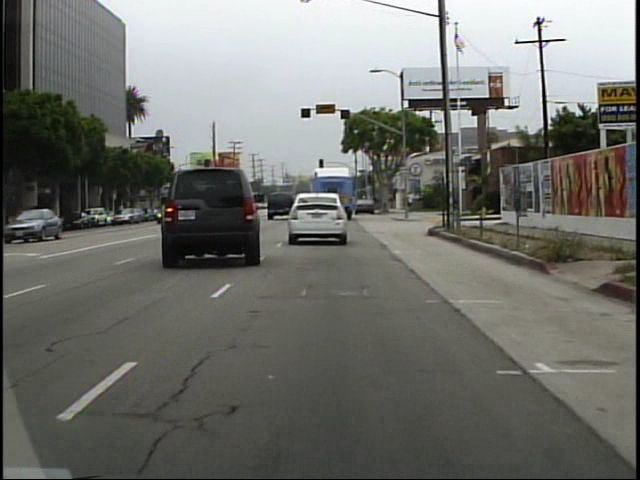person: (399, 189, 409, 214), (408, 188, 417, 212)
